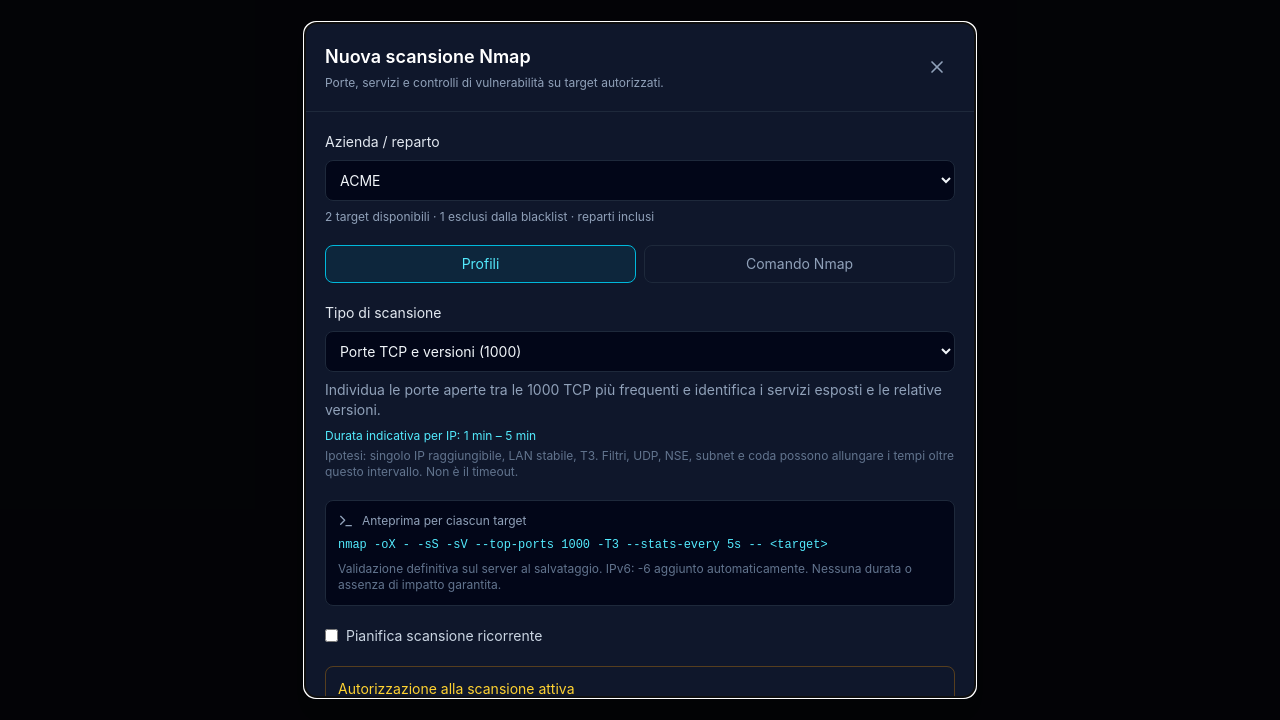
Test: Minimal Nmap scan workflow › preloads the selected preset into the editable command
The width and height of the screenshot is (1280, 720).
Select "Porte TCP frequenti (100)" in the dropdown labelled "Tipo di scansione" at (640, 351), box [325,331,955,372]
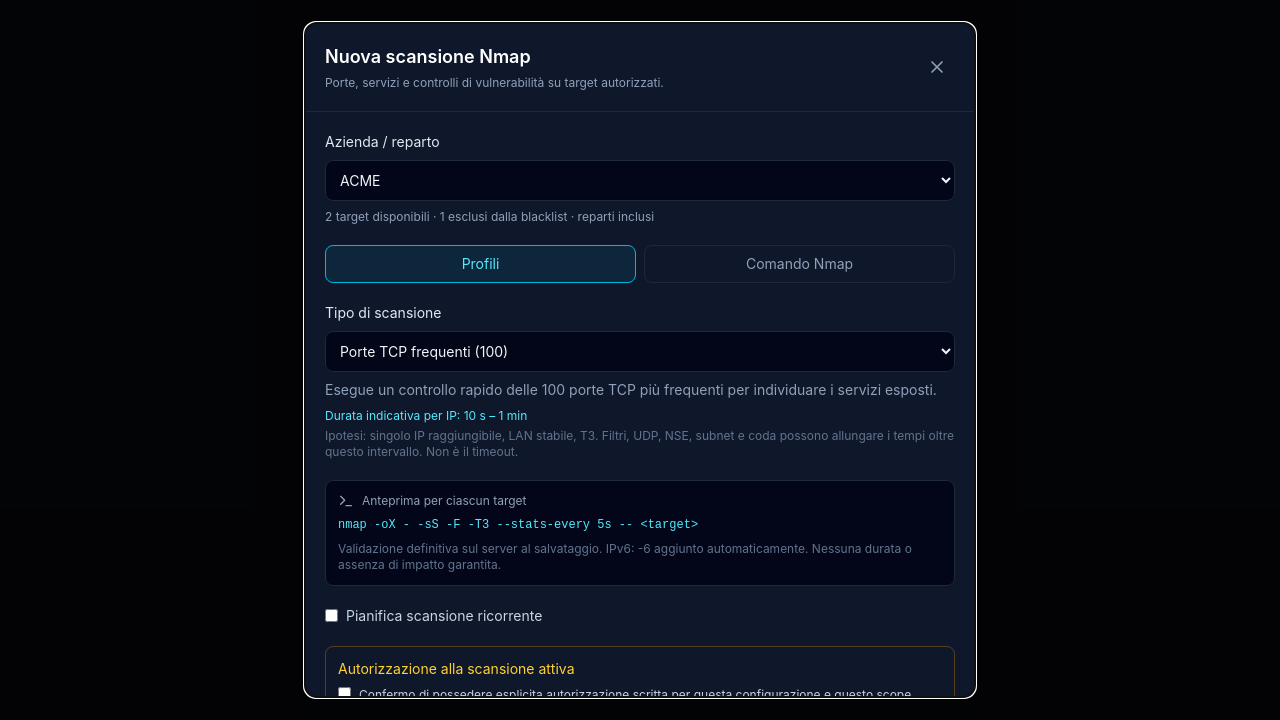
Click the button "Comando Nmap" at (800, 264), box [644,245,955,283]
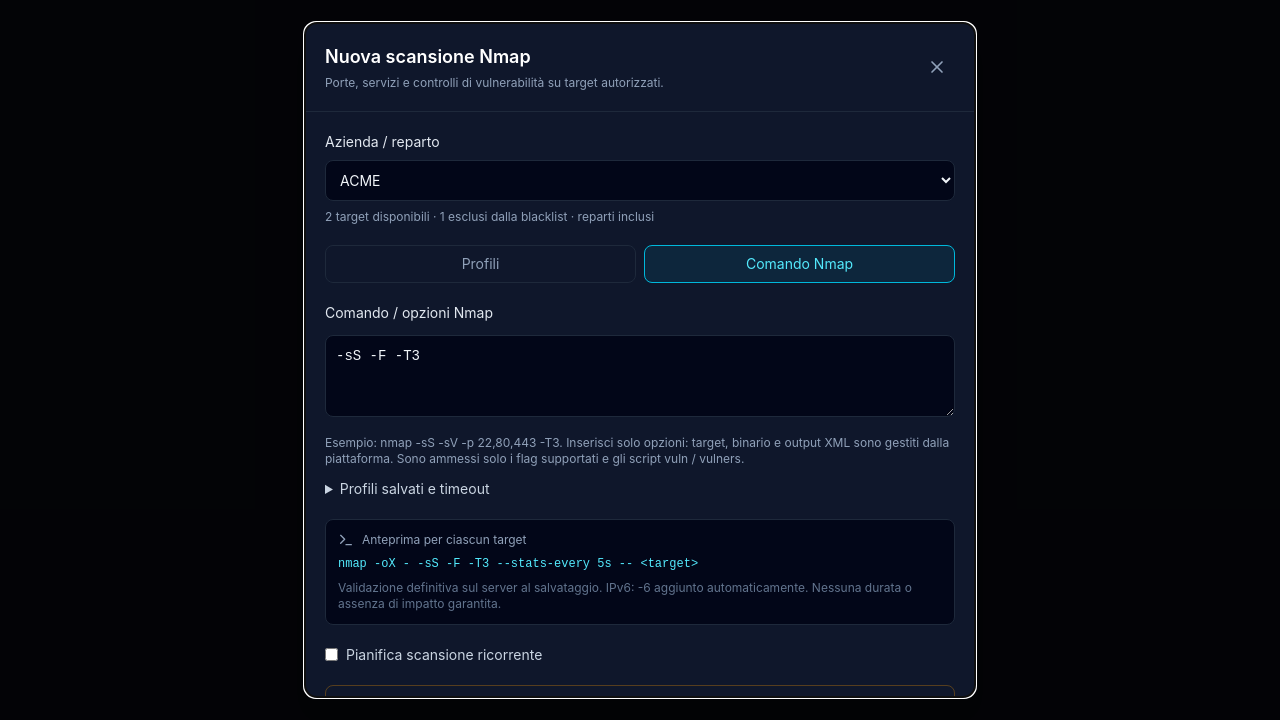
Expected: the text box labelled "Comando / opzioni Nmap" holds "-sS -F -T3", [325,335,955,417]
